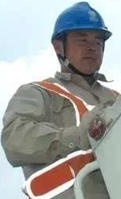gloves: (79, 102, 112, 150)
hard-hat: (51, 0, 112, 42)
vest: (0, 68, 121, 194)
